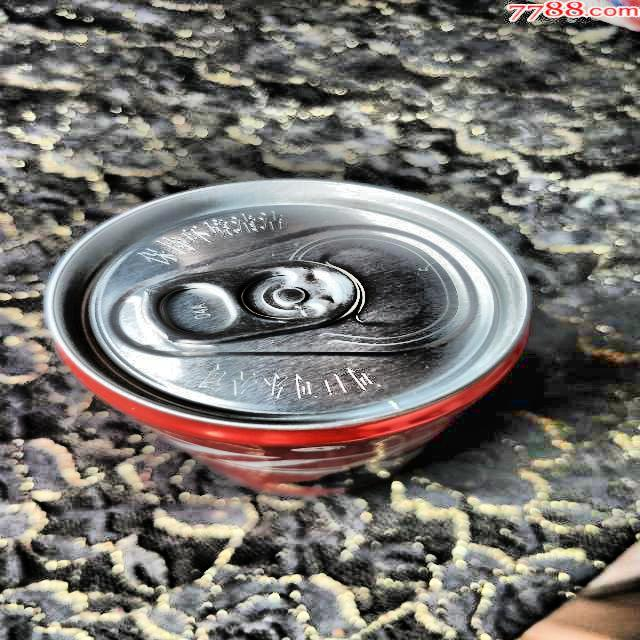can: (41, 171, 538, 504)
